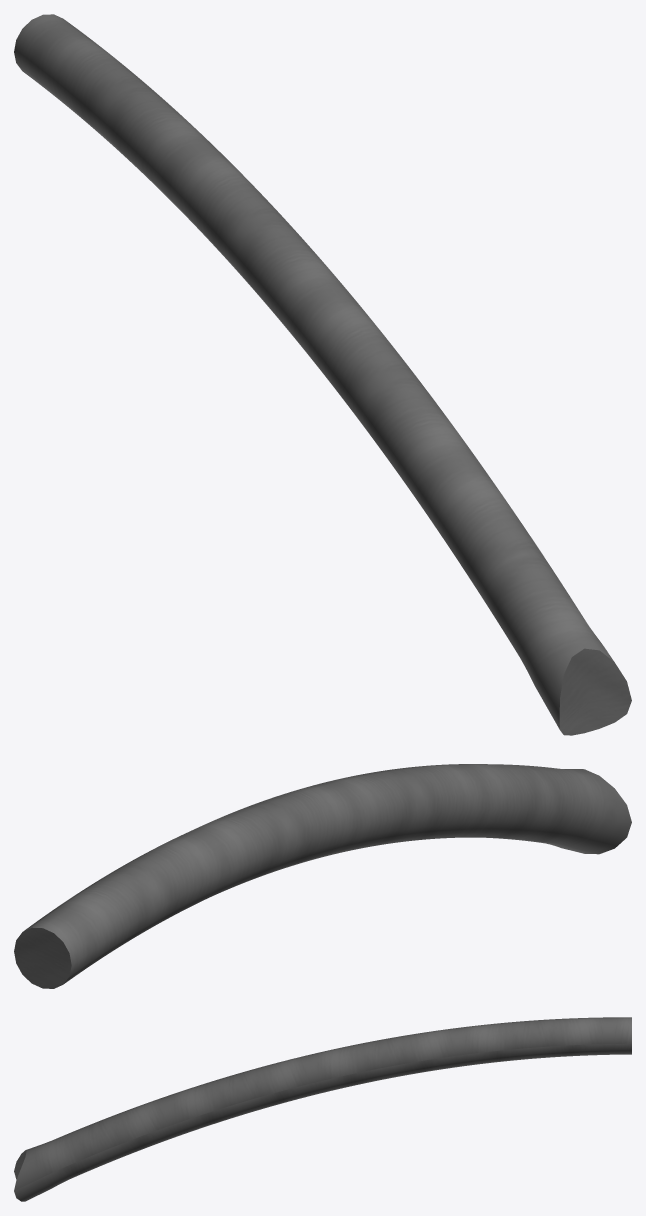
Rendered from mastarmcurve_8x2_inv.obj.
3 views of the same model, one above another, from view 1: azimuth 30°, elevation 25°; view 2: azimuth 150°, elevation 25°; view 3: azimuth 270°, elevation 25° (orthographic). The views are drawn at different scales.
Visible parts, largest first — view 1: mastarm_8x2_inv; view 2: mastarm_8x2_inv; view 3: mastarm_8x2_inv.
Boxes of the visible parts, left/top/right/bottom form: mastarm_8x2_inv: left=14, top=14, right=631, bottom=735; mastarm_8x2_inv: left=14, top=764, right=631, bottom=988; mastarm_8x2_inv: left=14, top=1017, right=631, bottom=1201.
Size of the model in its own units: 0.0757 by 0.3214 by 1.
